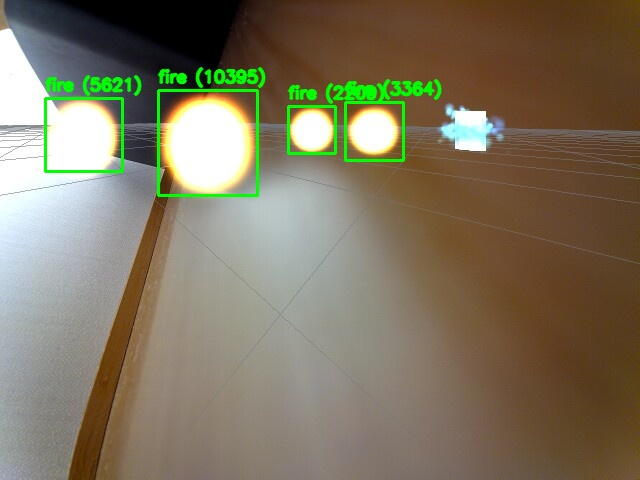fire: (158, 90, 257, 195), (45, 98, 122, 171), (345, 102, 403, 160), (288, 106, 335, 153)
